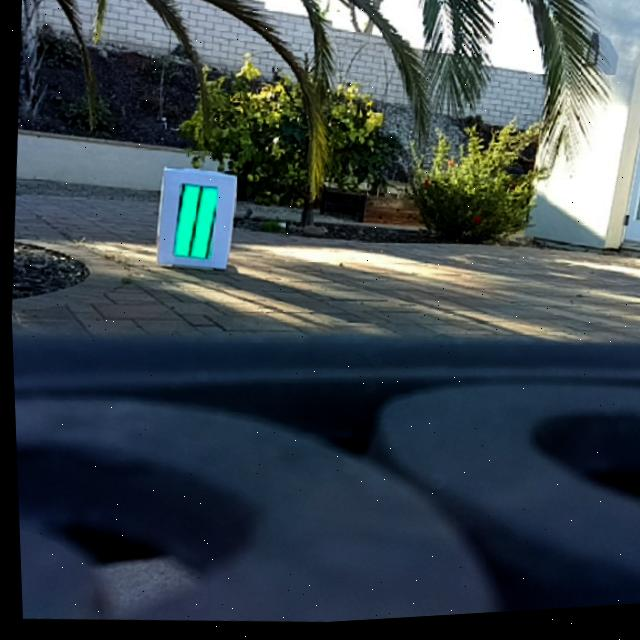led: (169, 182, 218, 264)
